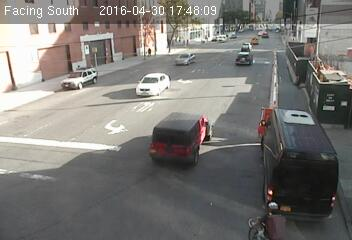neg: (244, 190, 278, 236), (128, 143, 160, 186), (89, 64, 120, 105), (201, 117, 231, 156), (304, 101, 333, 140), (36, 129, 62, 164), (73, 151, 96, 182), (22, 78, 42, 105), (207, 44, 227, 70), (101, 204, 115, 222), (267, 73, 280, 92), (141, 47, 153, 63)
